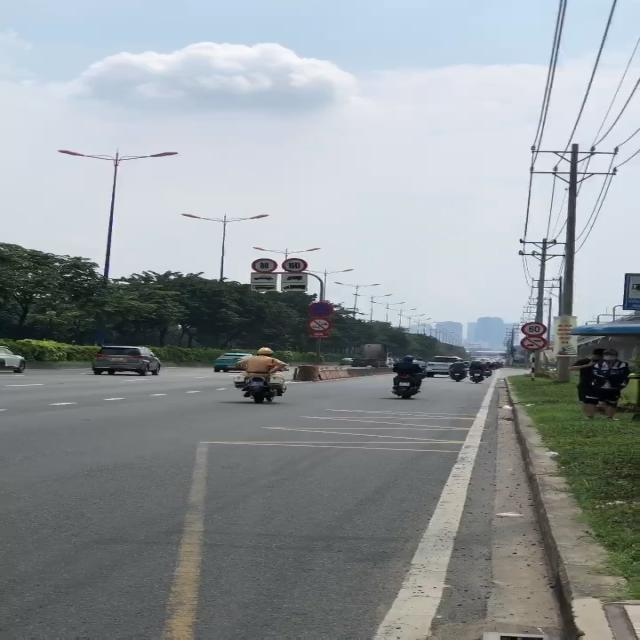Bien bao toc do toi da cho phep: (250, 257, 280, 273), (280, 256, 309, 272), (519, 321, 549, 336)
